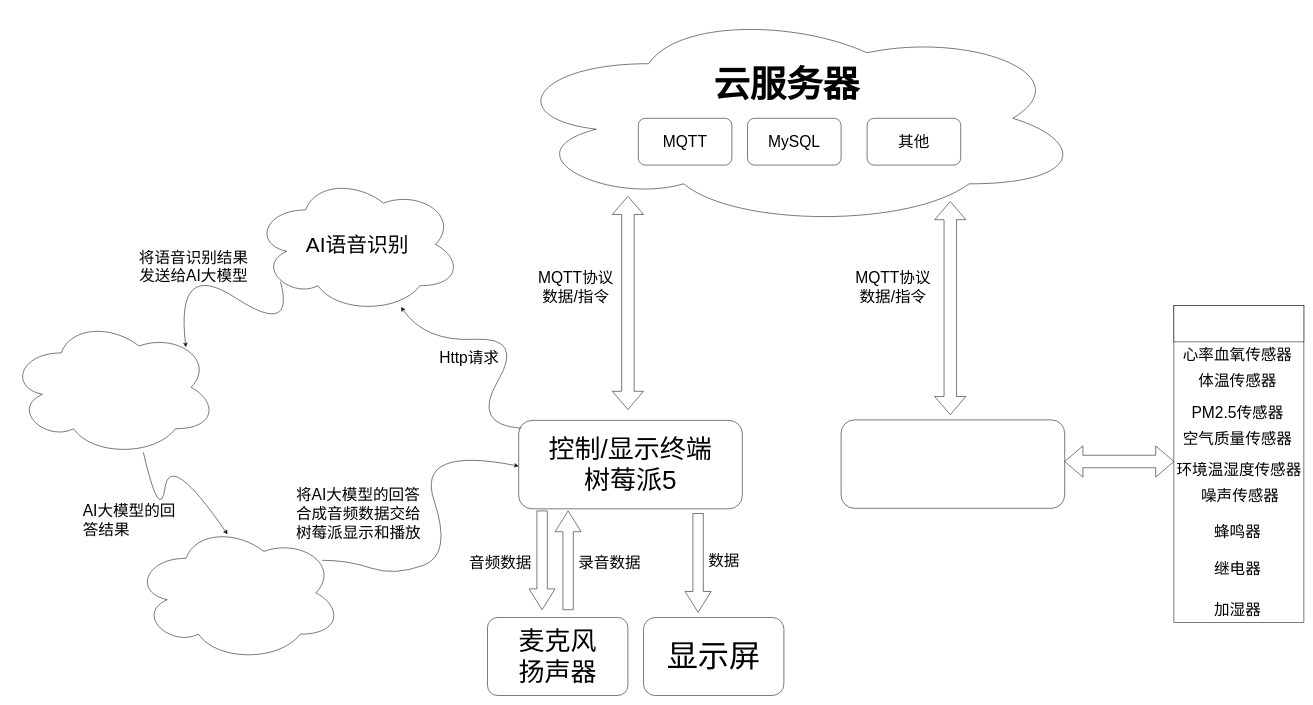
The diagram is 1313 pixels wide and 705 high, and some of its shapes have lost their labels. The shapes that lost their labels are listed below. From the top down, each one's centre as x and y in pixels, then its label:
At point 1238,323: "传感器".
At point 113,387: "AI大模型".
At point 953,463: "控制/采集设备 STM32F205RET6".
At point 237,592: "AI语音合成".
